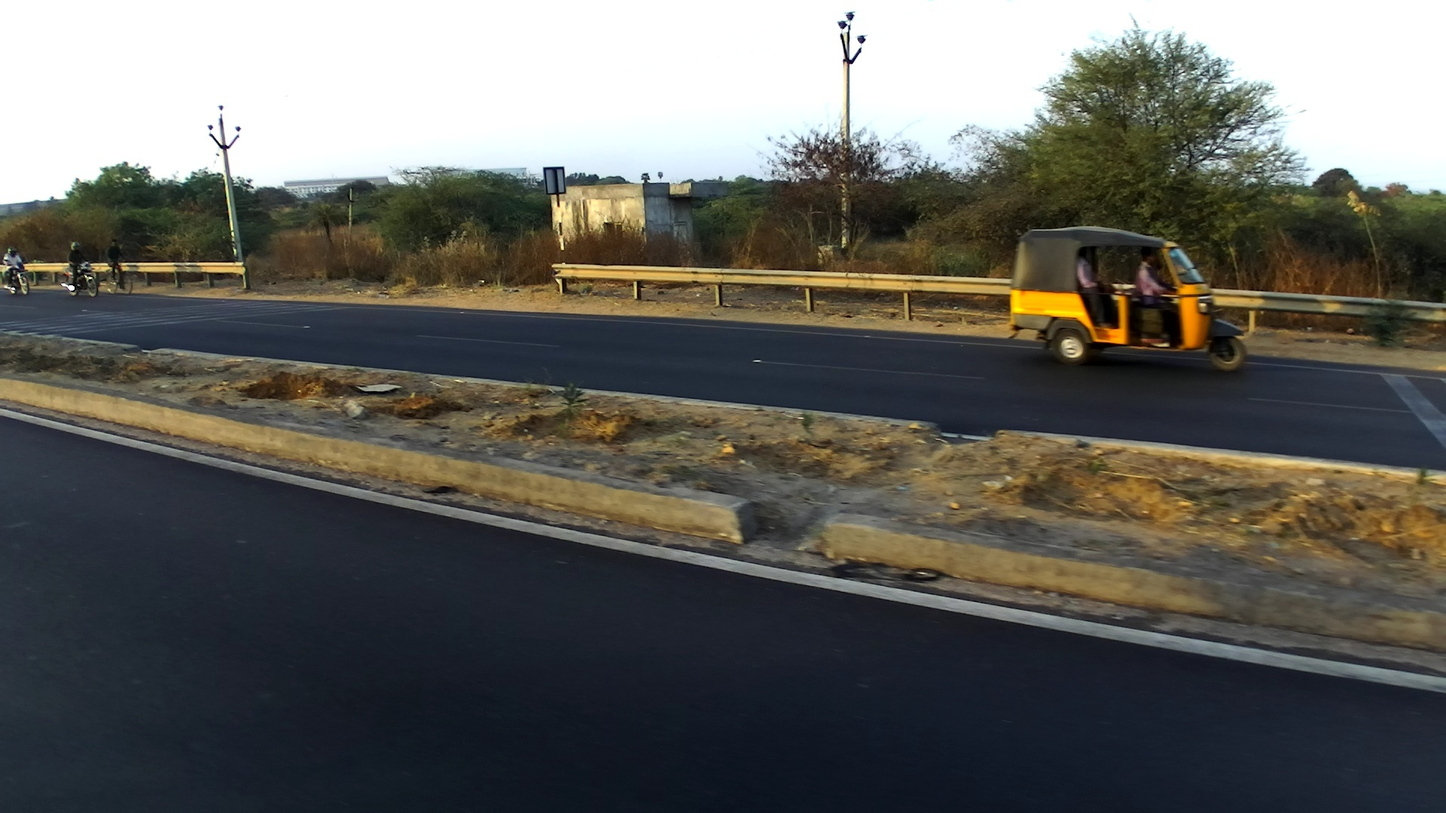autorickshaw: (1006, 224, 1250, 374)
bicycle: (102, 260, 135, 297)
motorcycle: (64, 257, 101, 298), (2, 260, 33, 298)
rider: (103, 235, 129, 291), (64, 240, 88, 291), (2, 245, 24, 294)
